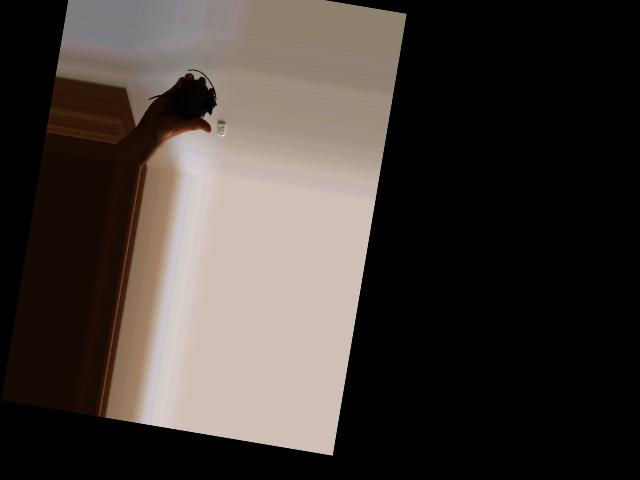beet: (146, 62, 221, 121)
